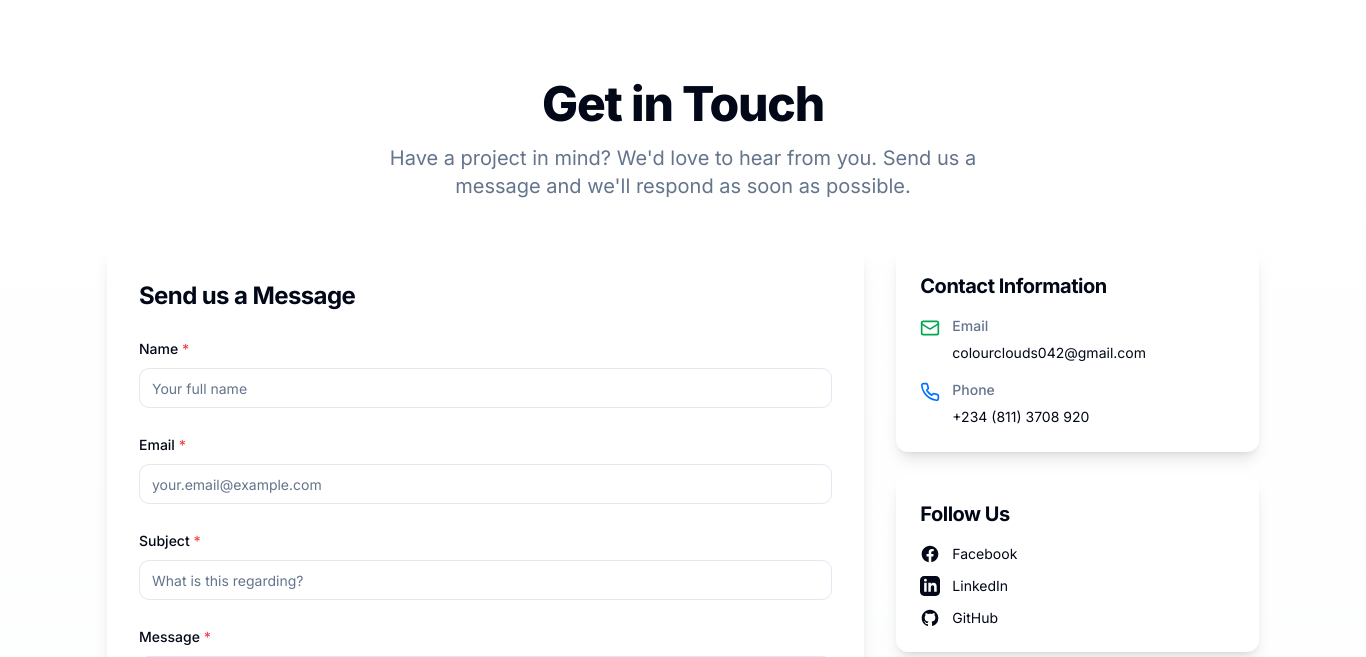
Contact Page › Client-side Validation › should show validation error for short name
In the field labelled "Name *": (486, 388) 139,368 -> 832,408, type "A"
(page scrolled)
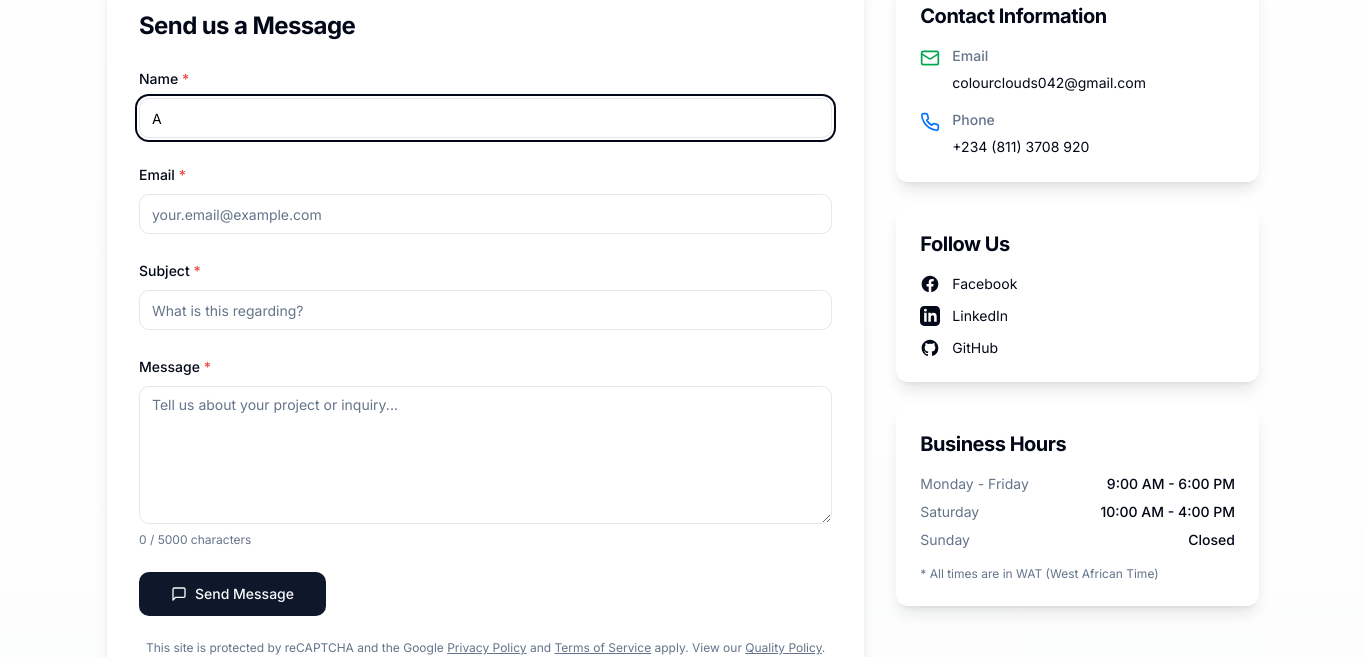
Click the button "Send Message": (232, 594) 139,572 -> 326,616
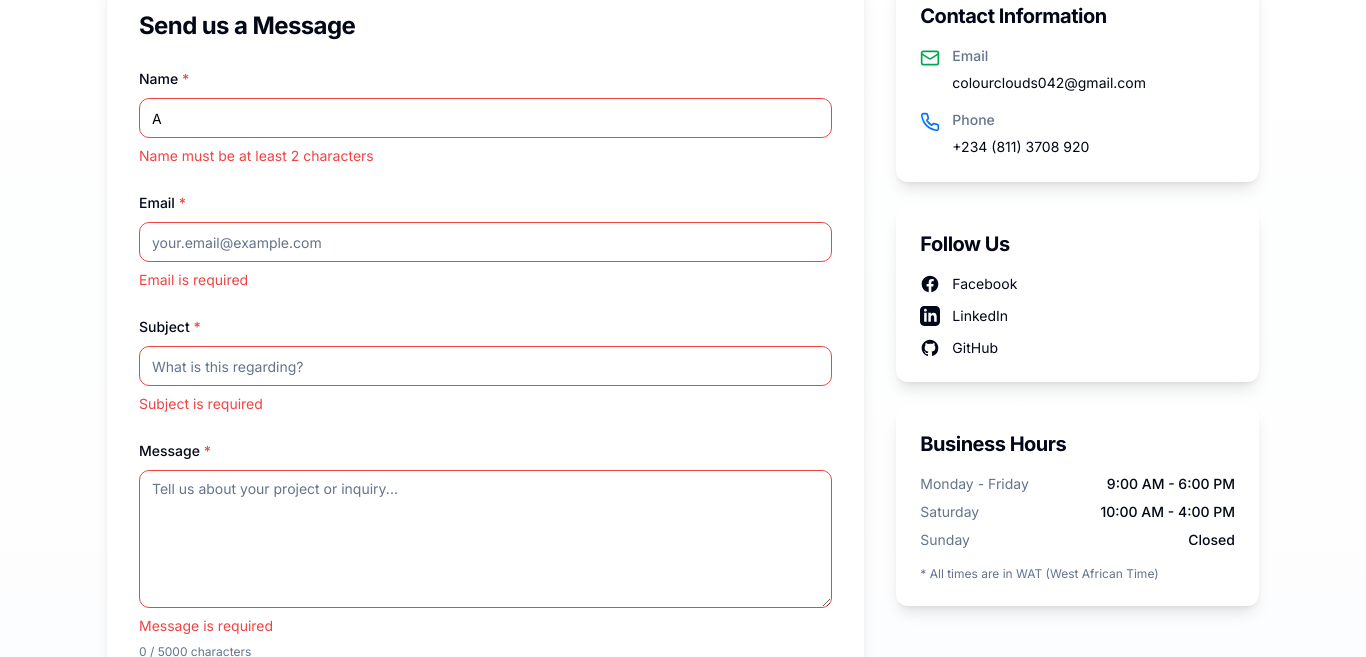
Result: the text "Name must be at least 2 characters" is shown at 139,147 -> 374,164
